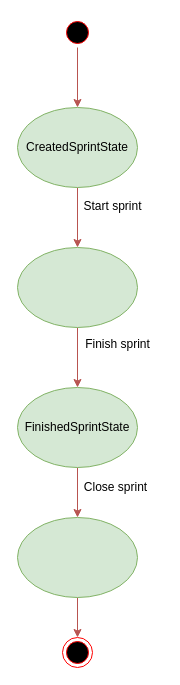
Image size: 180x685. Some labels were removed from this diagram. The shapes that lost their labels are listed below. From the top down, each one's centre as x and y in pixels, then its label:
At point 77,287: "DoingSprintState".
At point 77,557: "ClosedSprintState".
